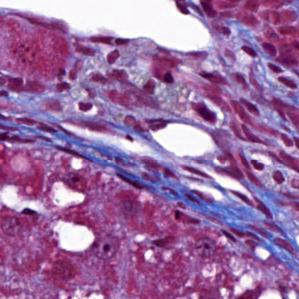inflammation: (182, 96, 226, 129), (264, 60, 299, 95)
